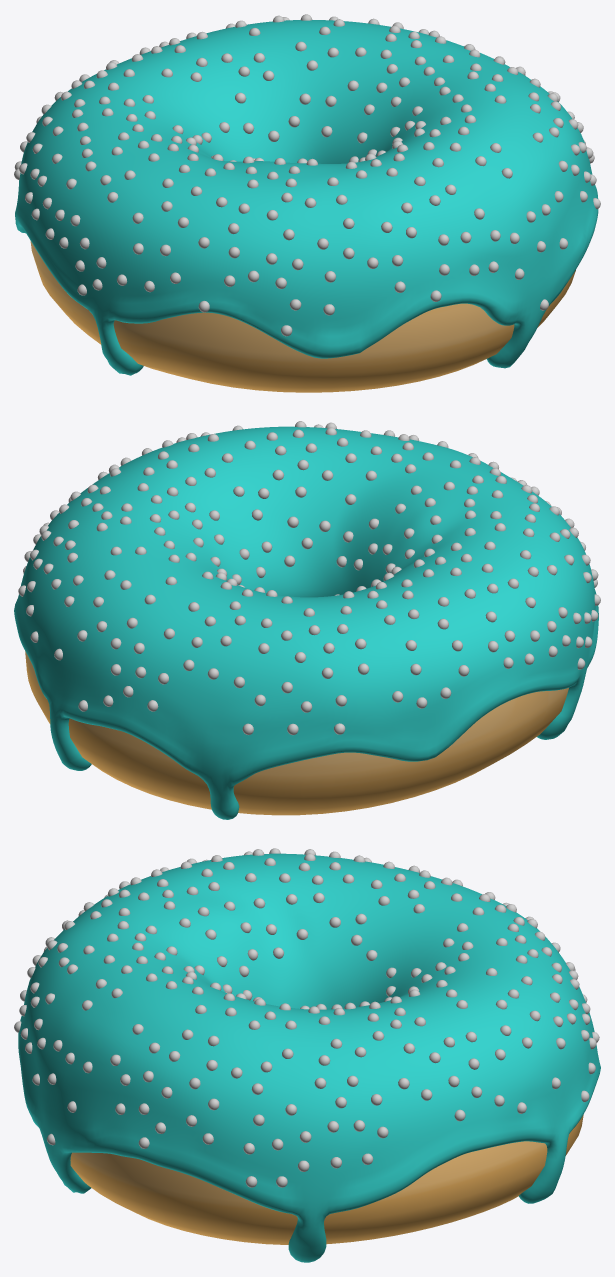
Rendered from donut.obj.
3 views of the same model, one above another, from view 1: azimuth 30°, elevation 25°; view 2: azimuth 150°, elevation 25°; view 3: azimuth 270°, elevation 25° (orthographic).
Parts seen in each view (by area): view 1: Icing.main, Donut.main; view 2: Icing.main, Donut.main; view 3: Icing.main, Donut.main.
Part boxes in pixels (x1=…): Icing.main: x1=14, y1=14, x2=600, y2=375; Donut.main: x1=30, y1=241, x2=575, y2=392; Icing.main: x1=14, y1=421, x2=600, y2=819; Donut.main: x1=25, y1=651, x2=568, y2=815; Icing.main: x1=14, y1=848, x2=600, y2=1262; Donut.main: x1=70, y1=1115, x2=583, y2=1244.
Size of the model in its own units: 0.1216 by 0.0511 by 0.1185.
